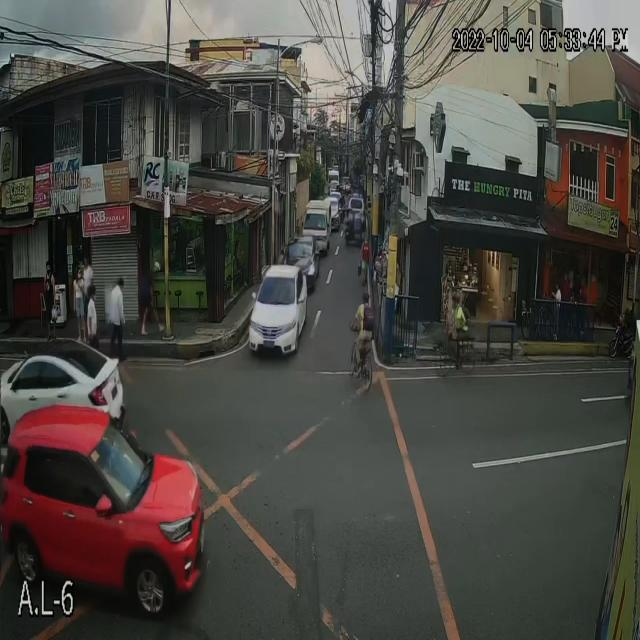Invalid: (358, 282, 376, 307)
